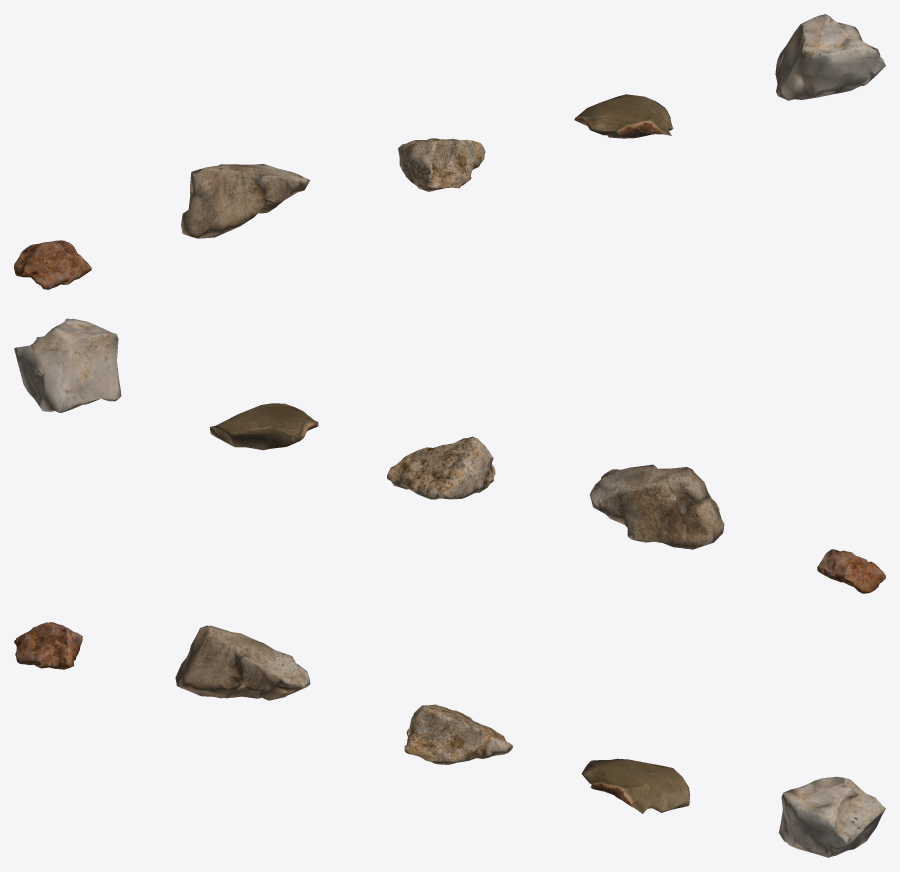
File: namaqualand_stones_01.glb
3 views of the same model, one above another, from view 1: azimuth 30°, elevation 25°; view 2: azimuth 150°, elevation 25°; view 3: azimuth 330°, elevation 25° (orthographic).
Visible parts, largest first — view 1: namaqualand_stones_01_e, namaqualand_stones_01_b, namaqualand_stones_01_c, namaqualand_stones_01_d, namaqualand_stones_01_a; view 2: namaqualand_stones_01_b, namaqualand_stones_01_e, namaqualand_stones_01_c, namaqualand_stones_01_d, namaqualand_stones_01_a; view 3: namaqualand_stones_01_b, namaqualand_stones_01_e, namaqualand_stones_01_c, namaqualand_stones_01_d, namaqualand_stones_01_a.
Part boxes in pixels (<box>): namaqualand_stones_01_e: <box>775,14,885,100</box>; namaqualand_stones_01_b: <box>181,164,310,238</box>; namaqualand_stones_01_c: <box>398,138,485,191</box>; namaqualand_stones_01_d: <box>574,94,673,138</box>; namaqualand_stones_01_a: <box>14,240,91,289</box>; namaqualand_stones_01_b: <box>589,464,724,549</box>; namaqualand_stones_01_e: <box>14,318,121,412</box>; namaqualand_stones_01_c: <box>387,436,495,499</box>; namaqualand_stones_01_d: <box>210,403,318,450</box>; namaqualand_stones_01_a: <box>817,549,885,593</box>; namaqualand_stones_01_b: <box>175,625,310,700</box>; namaqualand_stones_01_e: <box>778,776,885,857</box>; namaqualand_stones_01_c: <box>404,704,512,764</box>; namaqualand_stones_01_d: <box>581,758,690,813</box>; namaqualand_stones_01_a: <box>14,622,82,669</box>.
Size of the model in its own units: 1.02 by 0.0828 by 0.1118.
Materials: 1 (1 with a texture image).
